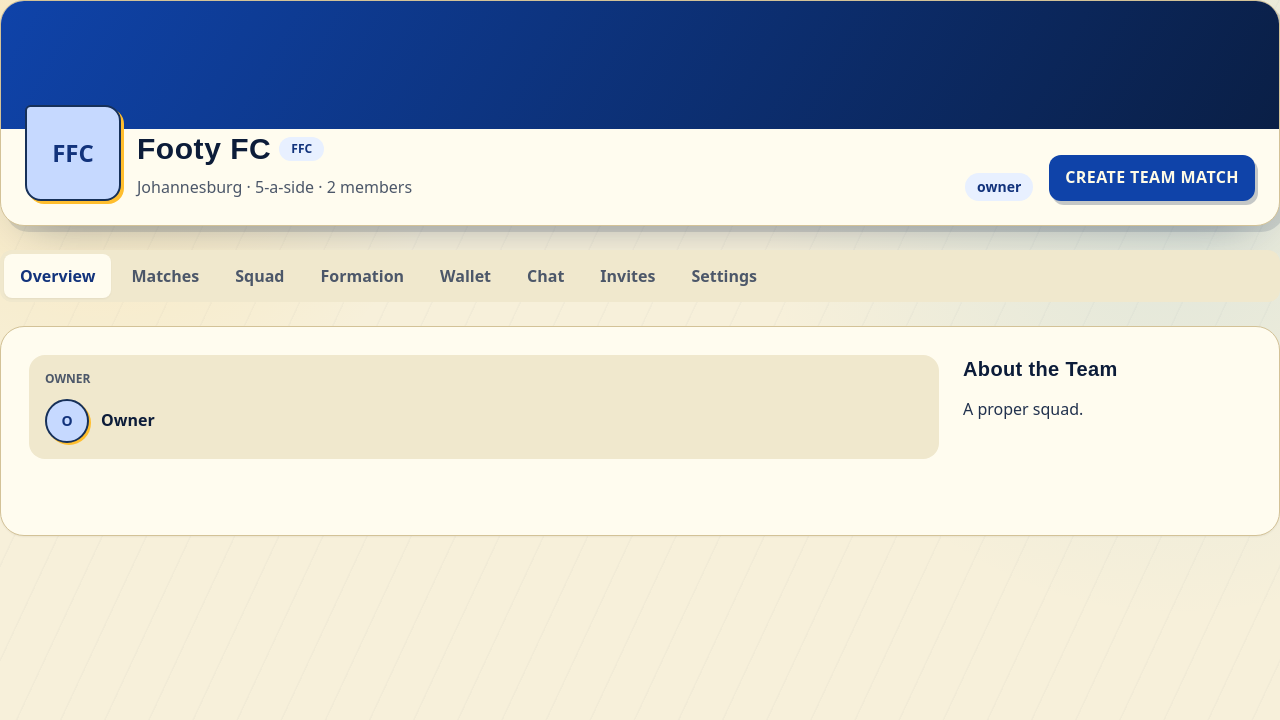
Test: TeamPage role controls › shows owner-only settings and member management controls to the owner
expect the tab "settings" is shown: met, box [675, 254, 773, 298]
Step 1. Click the tab "squad" → [260, 276], box [219, 254, 300, 298]
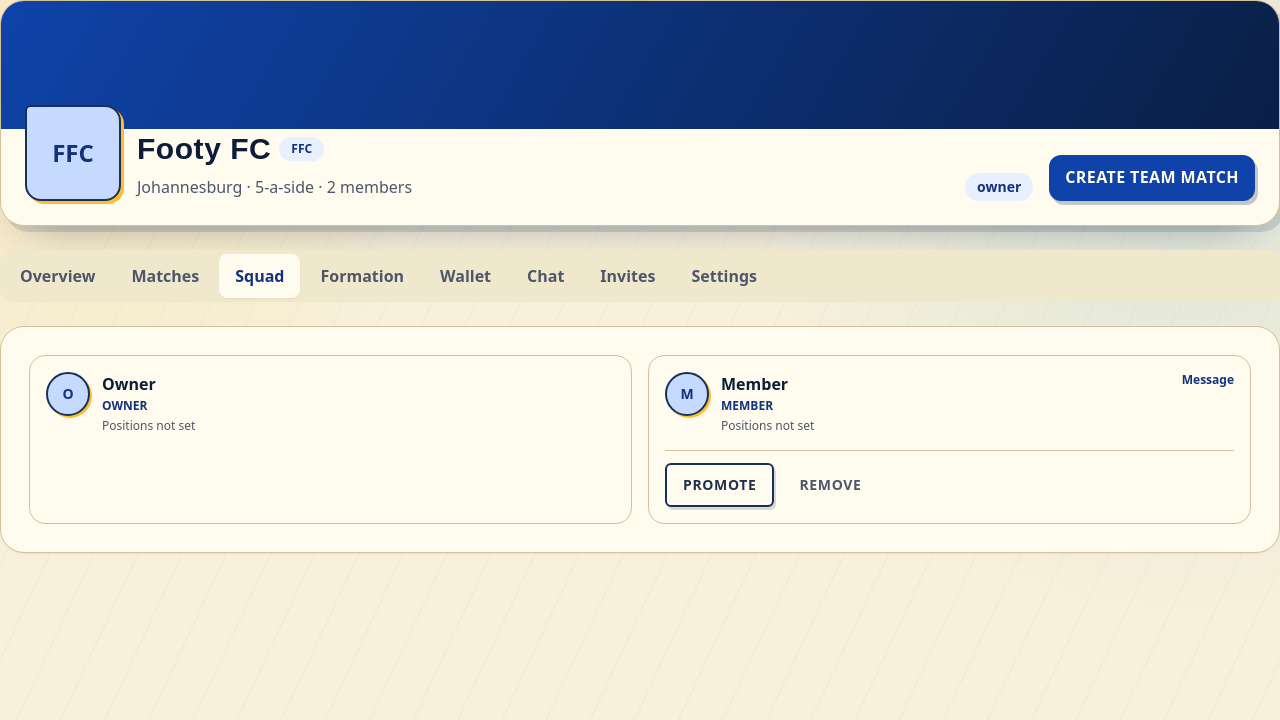
expect the button "Promote" is shown: met, box [665, 463, 774, 507]
expect the button "Remove" is shown: met, box [782, 463, 878, 507]
